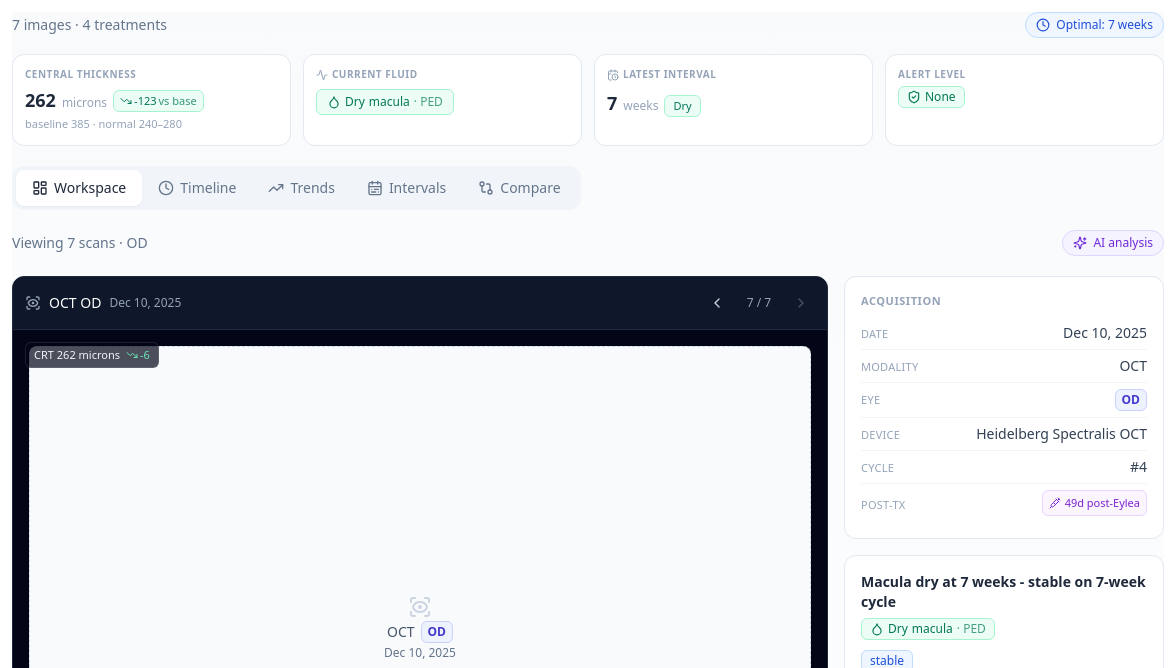
it: Imaging timeline › merges image and treatment events into one reverse-chronological stream
This screenshot has width=1176, height=668.
What coordinates should you click on to do the following:
click the tab "Timeline"
I would click on:
 (197, 188)
Its box is [142,170,252,206].
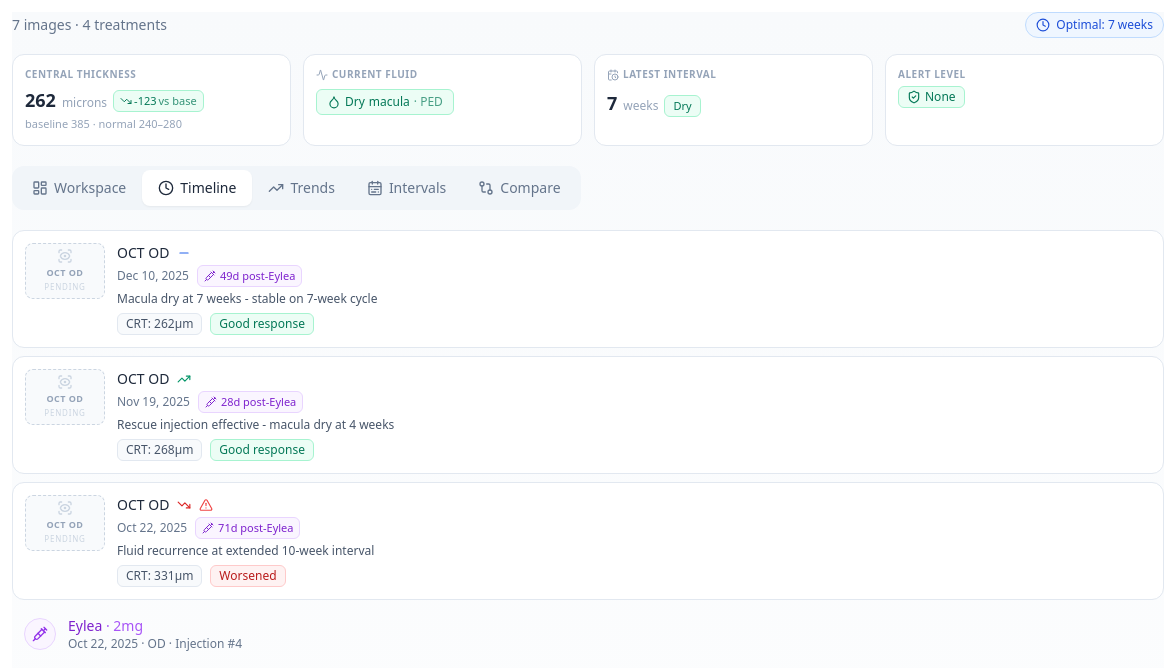
Check: the number of buttons with test id "timeline-event" is 11
Check: the text "Dec 10, 2025" is shown, box [117,266,189,284]
Check: the text "Eylea" is shown, box [68,616,102,634]
